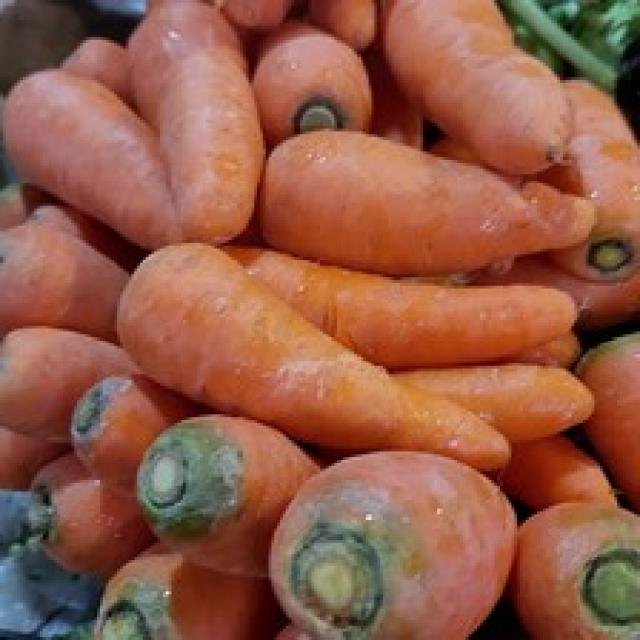Fresh_Carrot: (126, 236, 493, 476), (285, 120, 604, 275), (202, 241, 573, 367), (412, 359, 603, 443)
